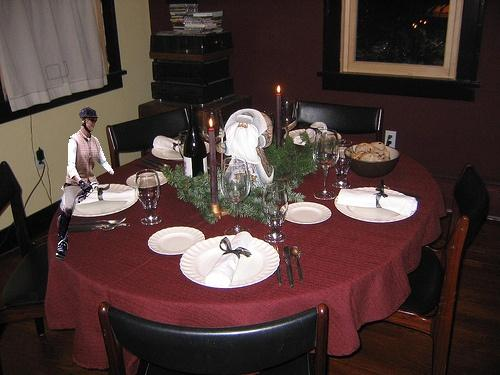tampered: (57, 107, 114, 261)
